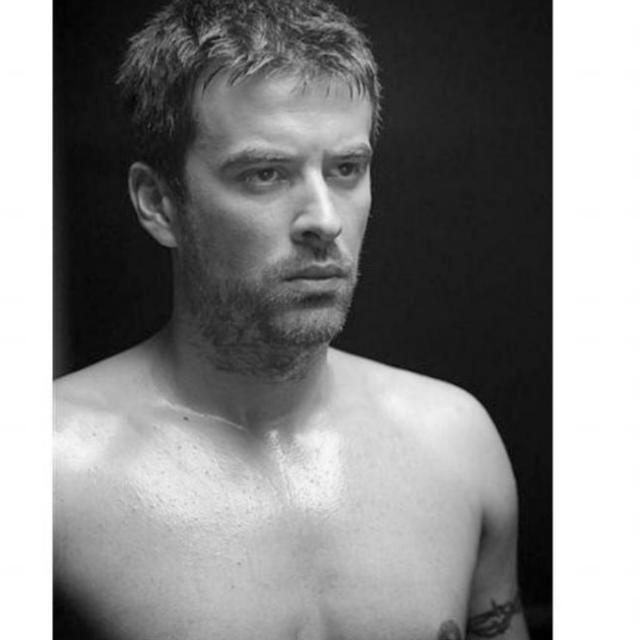real: (148, 10, 384, 364)
